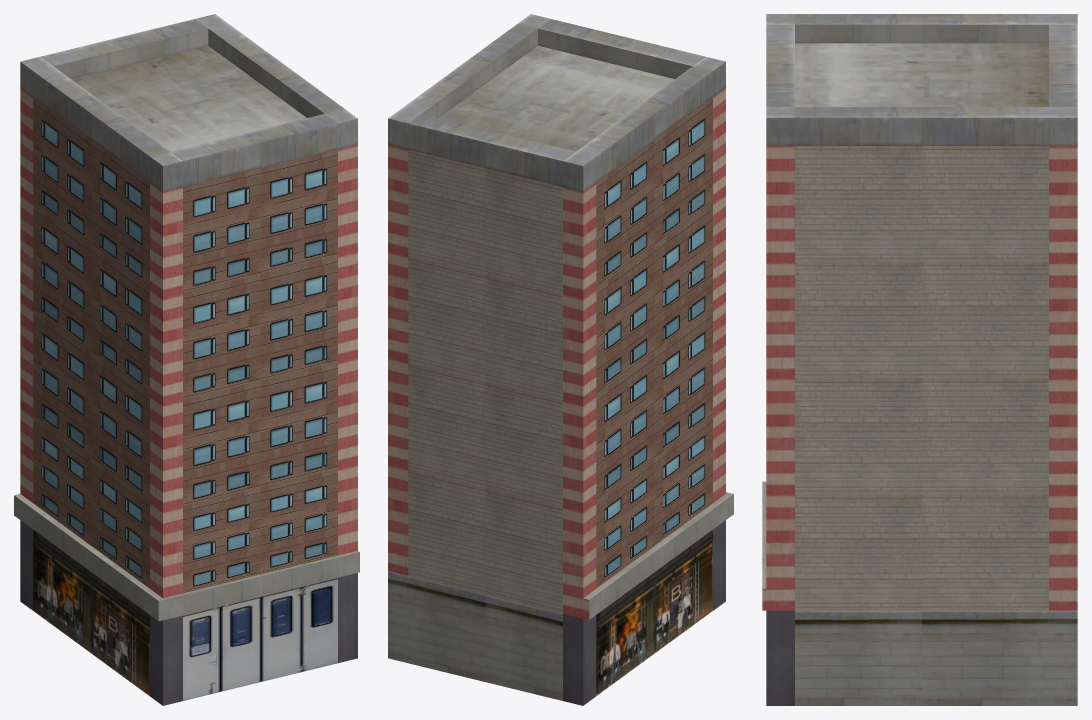
Rendered from Pizza_Delivery house27.fbx.
3 views of the same model, side by side, from view 1: azimuth 30°, elevation 25°; view 2: azimuth 150°, elevation 25°; view 3: azimuth 270°, elevation 25° (orthographic). The views are drawn at different scales.
Parts seen in each view (by area): view 1: Pizza_Delivery:Pizza_Delivery:house27; view 2: Pizza_Delivery:Pizza_Delivery:house27; view 3: Pizza_Delivery:Pizza_Delivery:house27.
Part boxes in pixels (x1,y1,x2,y2): Pizza_Delivery:Pizza_Delivery:house27: (14,14,359,705); Pizza_Delivery:Pizza_Delivery:house27: (388,14,733,705); Pizza_Delivery:Pizza_Delivery:house27: (762,14,1077,705).
Bounding box in the file's own units: 12.03 × 30.86 × 14.98.
